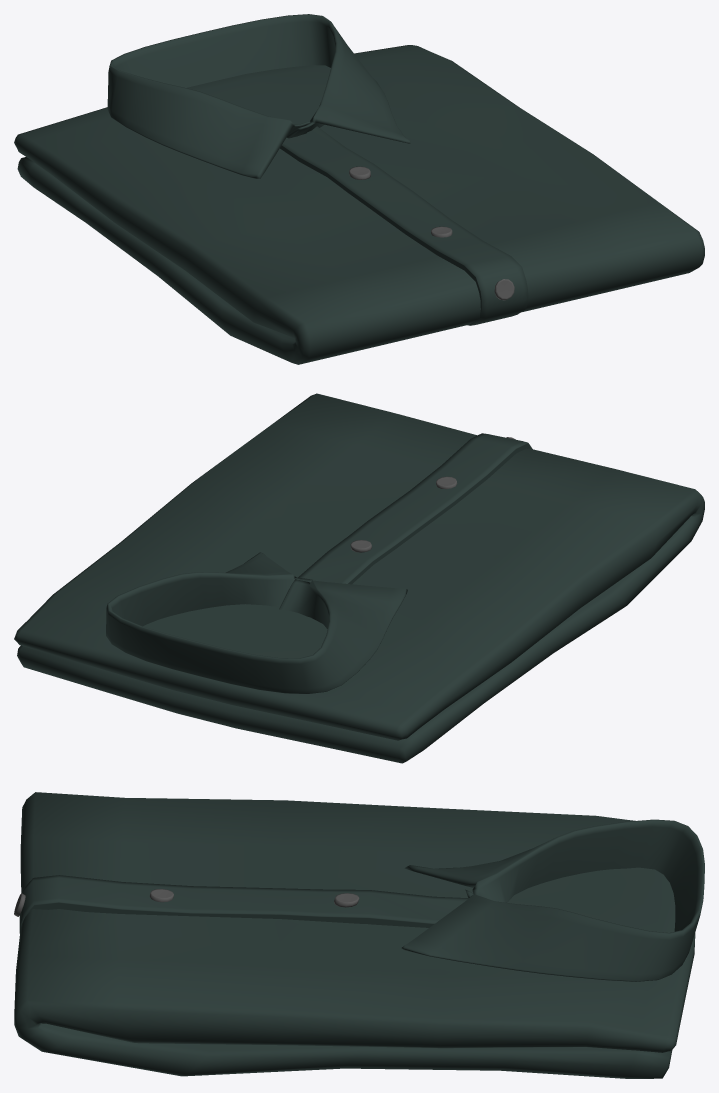
Rendered from Folded_Shirt11.fbx.
3 renders of one model, top to bottom at view 1: azimuth 30°, elevation 25°; view 2: azimuth 150°, elevation 25°; view 3: azimuth 270°, elevation 25°, orthographic. The views are drawn at different scales.
Visible parts, largest first — view 1: Folded_Shirt11; view 2: Folded_Shirt11; view 3: Folded_Shirt11.
Part boxes in pixels (bbox=[...]): Folded_Shirt11: bbox=[14, 14, 704, 364]; Folded_Shirt11: bbox=[14, 393, 704, 763]; Folded_Shirt11: bbox=[14, 792, 704, 1078].
Size of the model in its own units: 24.94 by 5.51 by 33.25.
